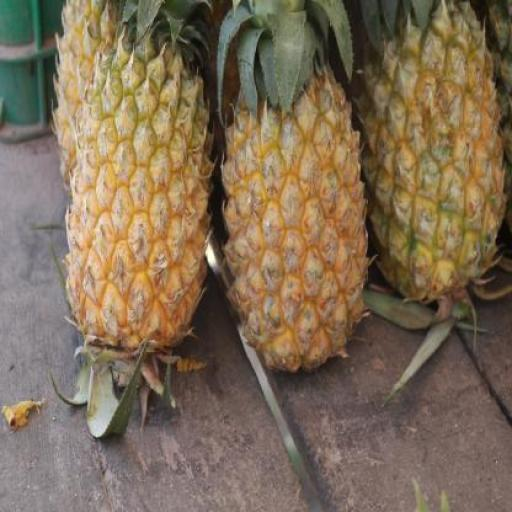------------------------------: (361, 13, 504, 306)
Pineapple - v8 v1: (64, 38, 210, 362), (222, 78, 371, 379)
